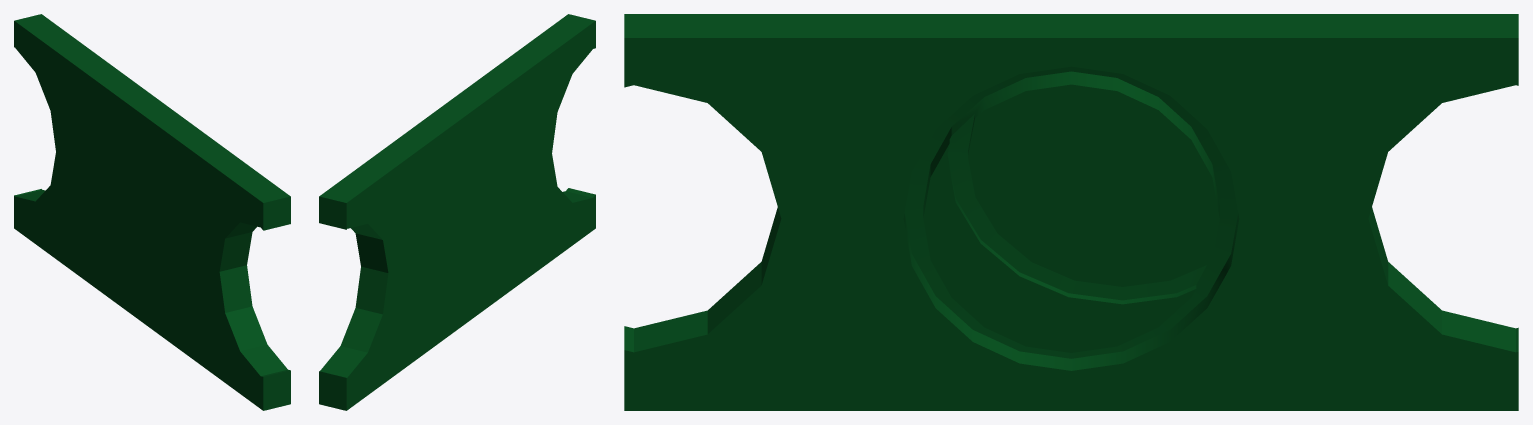
Rendered from billet.fbx.
The picture shows the model from 3 angles, left to right: view 1: azimuth 30°, elevation 25°; view 2: azimuth 150°, elevation 25°; view 3: azimuth 270°, elevation 25°; orthographic projection. The views are drawn at different scales.
Visible parts, largest first — view 1: billet; view 2: billet; view 3: billet.
Boxes of the visible parts, x1,y1,x2,y2 form: billet: (14,14,290,410); billet: (319,14,595,410); billet: (624,14,1518,410).
Size of the model in its own units: 0.2371 by 1.72 by 3.73.
